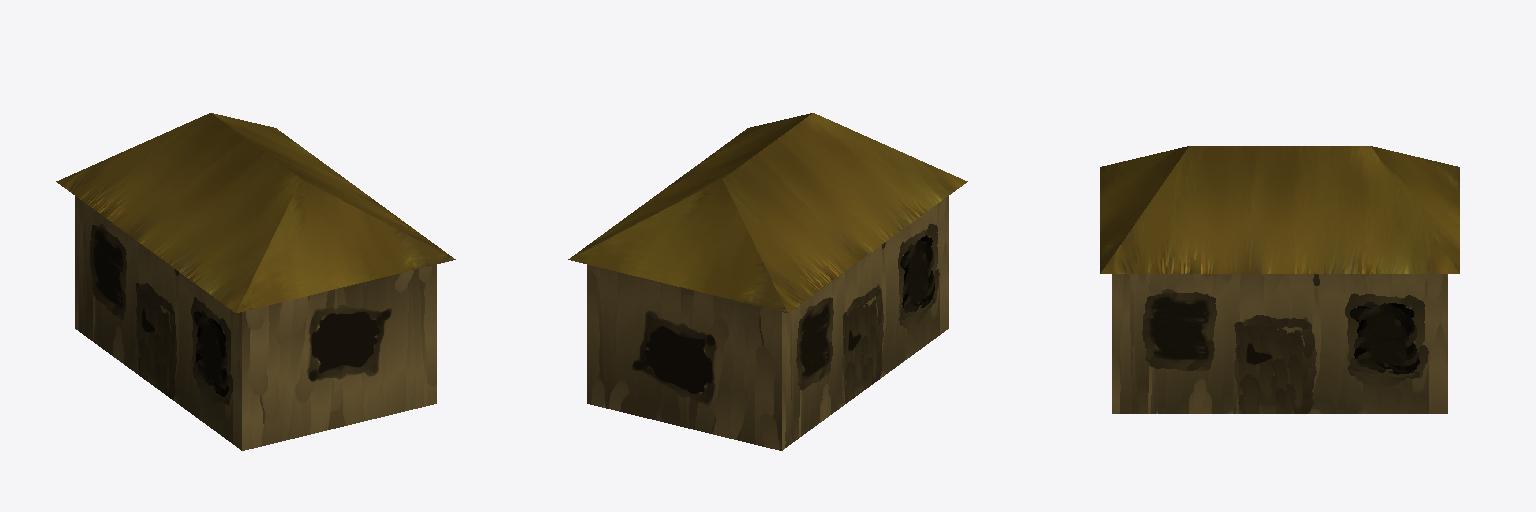
3 renders of one model, left to right at view 1: azimuth 30°, elevation 25°; view 2: azimuth 150°, elevation 25°; view 3: azimuth 270°, elevation 25°, orthographic.
Parts seen in each view (by area): view 1: Plane; view 2: Plane; view 3: Plane.
Part boxes in pixels (bbox=[...]): Plane: bbox=[56, 113, 455, 450]; Plane: bbox=[568, 113, 967, 450]; Plane: bbox=[1100, 146, 1459, 413].
Size of the model in its own units: 4.2 by 4.02 by 5.95.
1 materials, 1 textured.